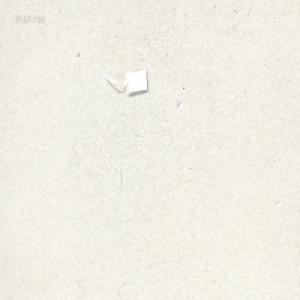LuggageTag: (101, 65, 150, 96)
